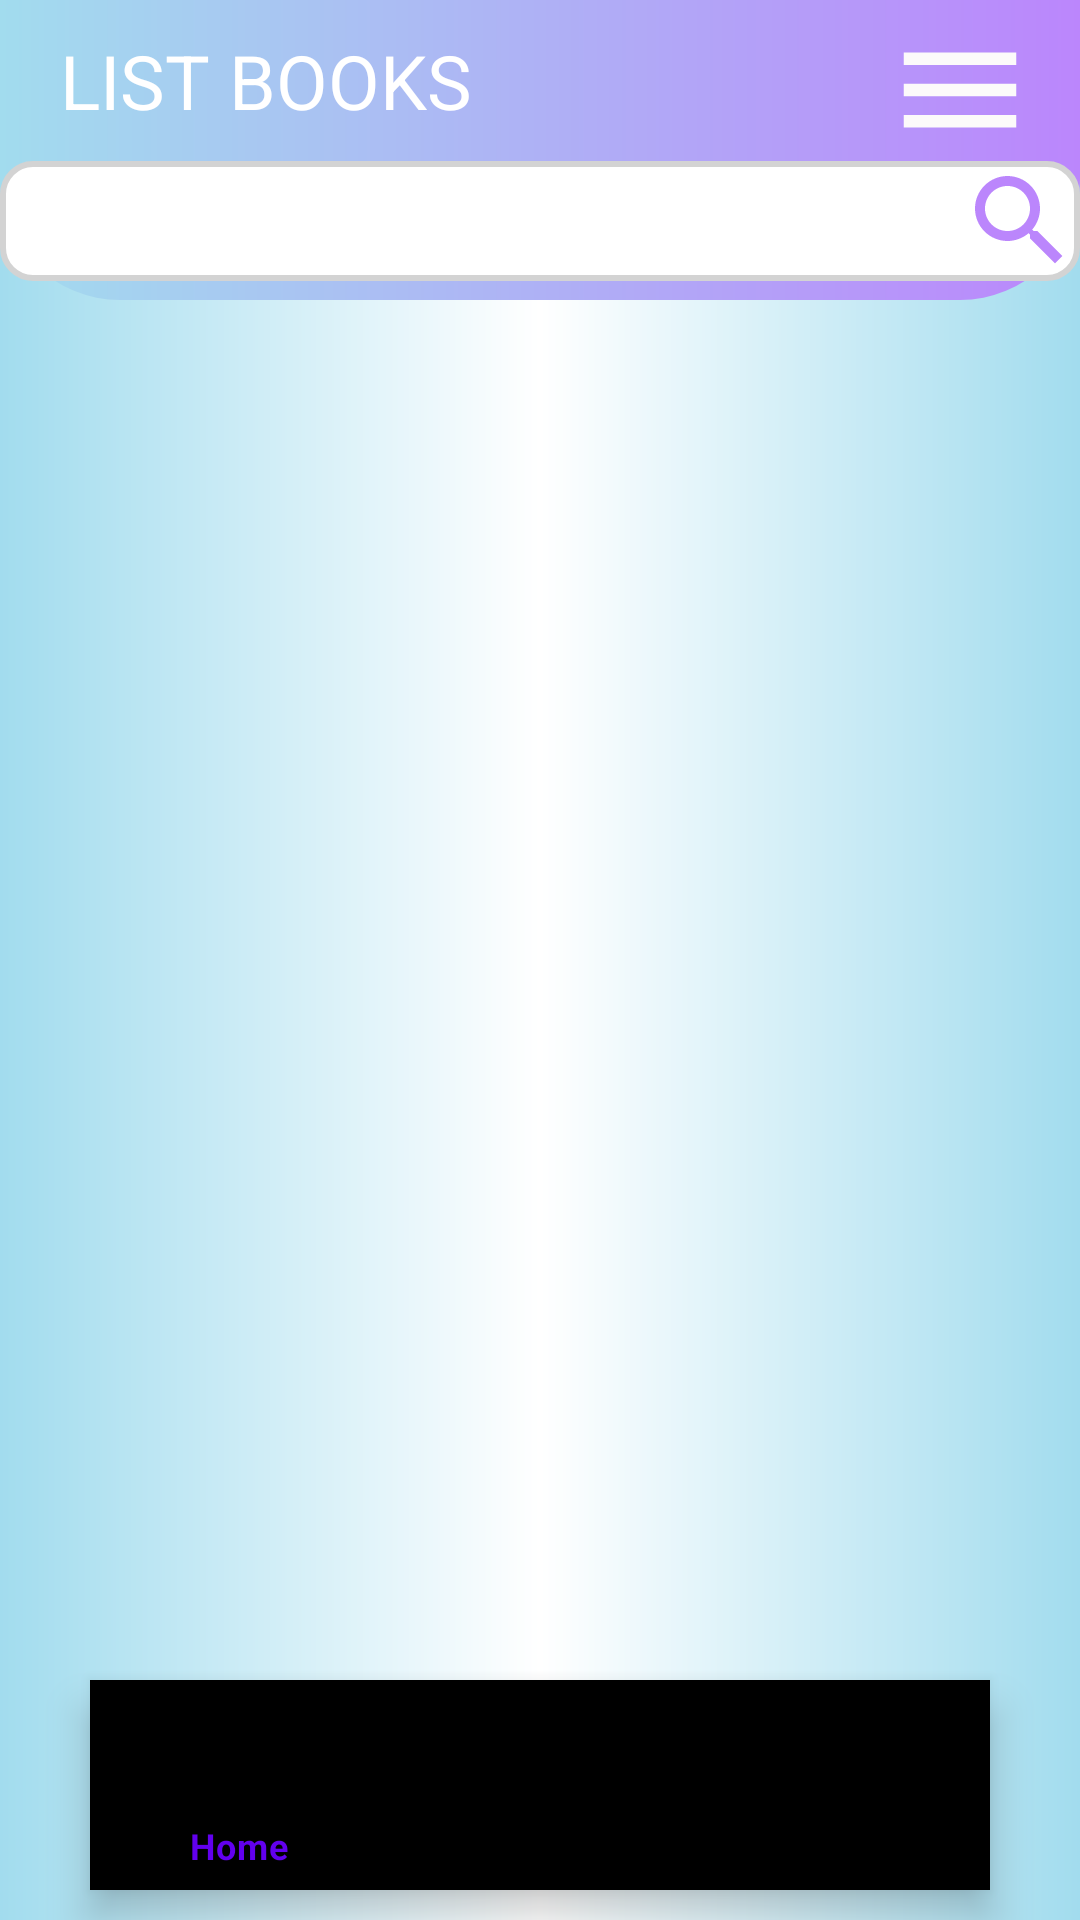

Where icons sit on this 1080px x 1920px app screen, as [x1,y1,x2,y2]:
menu: [903,52,1017,128]
